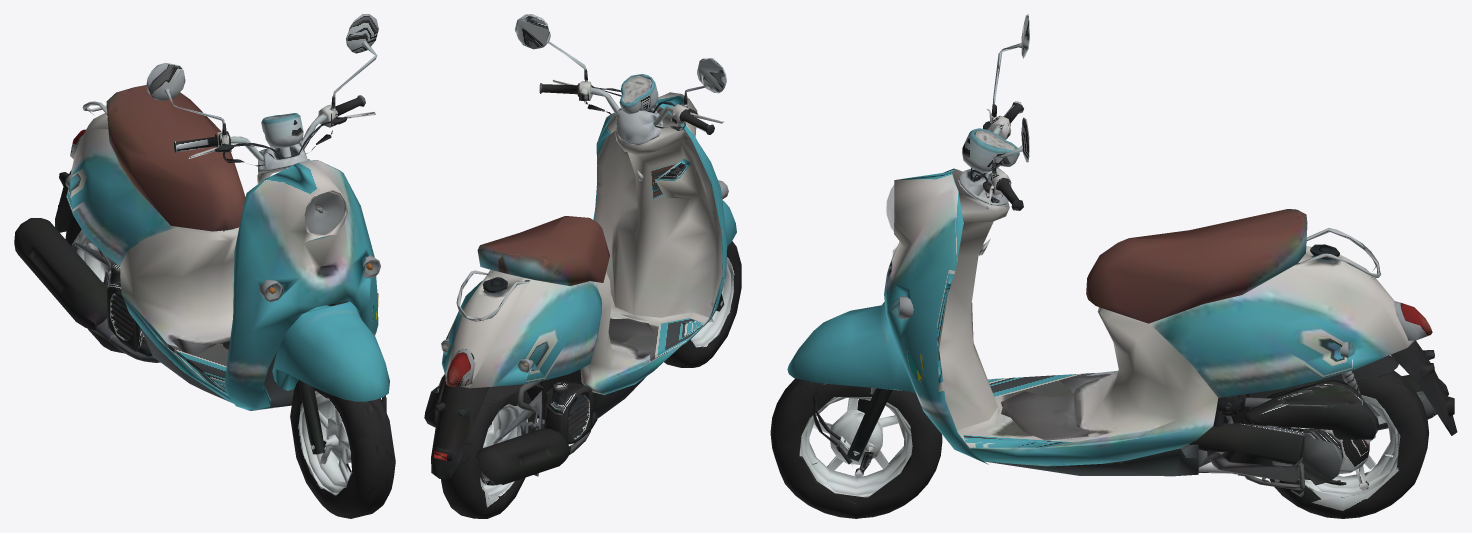
The model's file is k1_vino_lo.glb.
3 renders of one model, left to right at view 1: azimuth 30°, elevation 25°; view 2: azimuth 150°, elevation 25°; view 3: azimuth 270°, elevation 25°, orthographic. The views are drawn at different scales.
Parts seen in each view (by area): view 1: Plane003_Main Body_0, Sphere001_Tire_0, Sphere001_Main Body_0, Plane003_SmallParts_0, Sphere001_SmallParts_0, Plane003_Lamp & Glass_0, Plane003_Glass_0, Plane003_Tire_0; view 2: Plane003_Main Body_0, Plane003_SmallParts_0, Sphere001_SmallParts_0, Plane003_Tire_0, Sphere001_Tire_0, Plane003_Lamp & Glass_0, Sphere001_Glass_0, Sphere001_Main Body_0; view 3: Plane003_Main Body_0, Plane003_SmallParts_0, Sphere001_Tire_0, Plane003_Tire_0, Sphere001_Main Body_0, Sphere001_SmallParts_0, Plane003_Lamp & Glass_0.
Part boxes in pixels (x1,y1,x2,y2): Plane003_Main Body_0: [66, 85, 378, 410]; Sphere001_Tire_0: [290, 381, 395, 518]; Sphere001_Main Body_0: [272, 301, 389, 454]; Plane003_SmallParts_0: [14, 101, 160, 362]; Sphere001_SmallParts_0: [146, 14, 386, 449]; Plane003_Lamp & Glass_0: [65, 129, 380, 302]; Plane003_Glass_0: [66, 177, 380, 300]; Plane003_Tire_0: [65, 215, 124, 353]; Plane003_Main Body_0: [441, 92, 727, 418]; Plane003_SmallParts_0: [424, 270, 597, 485]; Sphere001_SmallParts_0: [515, 14, 726, 305]; Plane003_Tire_0: [441, 390, 535, 518]; Sphere001_Tire_0: [664, 241, 741, 367]; Plane003_Lamp & Glass_0: [434, 180, 728, 460]; Sphere001_Glass_0: [622, 75, 650, 102]; Sphere001_Main Body_0: [716, 200, 736, 311]; Plane003_Main Body_0: [884, 168, 1414, 476]; Plane003_SmallParts_0: [1176, 228, 1457, 496]; Sphere001_Tire_0: [770, 378, 942, 518]; Plane003_Tire_0: [1259, 370, 1428, 518]; Sphere001_Main Body_0: [787, 302, 915, 461]; Sphere001_SmallParts_0: [813, 14, 1029, 478]; Plane003_Lamp & Glass_0: [899, 296, 1432, 358].
Size of the model in its own units: 0.6794 by 1.16 by 1.61.
6 materials, 6 textured.
